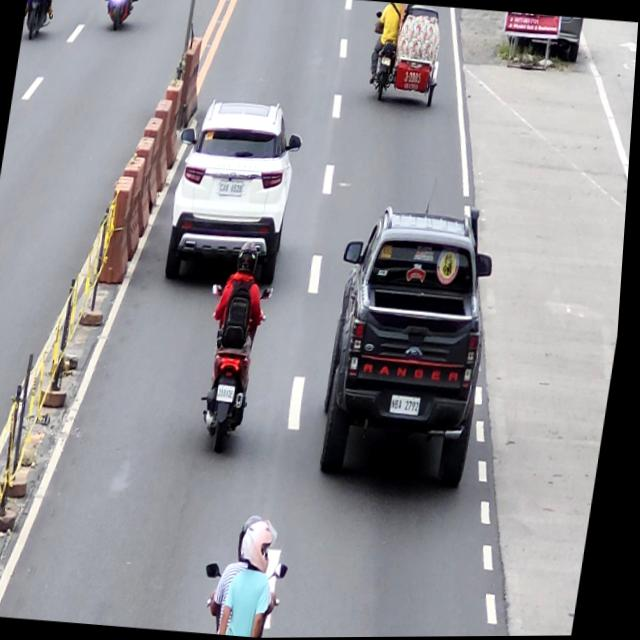Car: (315, 203, 509, 494), (163, 91, 310, 289)
License-Plate: (395, 393, 427, 417), (218, 178, 247, 197), (220, 384, 241, 403), (380, 56, 391, 69)
Motorcycle: (194, 279, 274, 462)
Tricycle: (365, 2, 450, 110)
